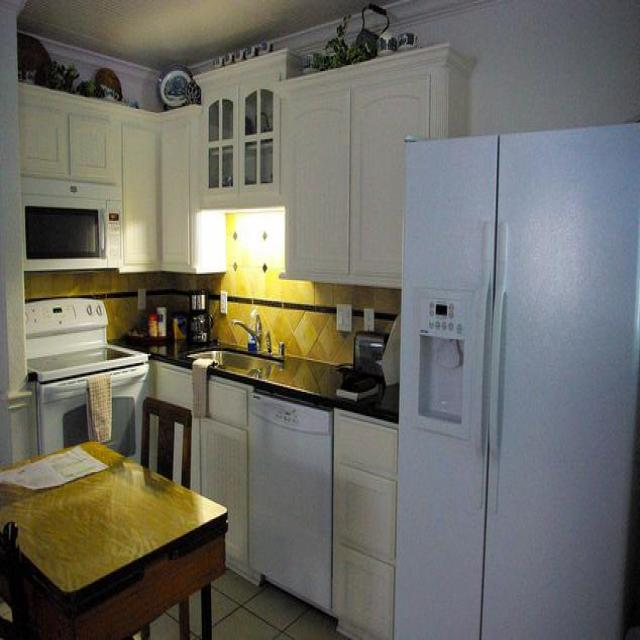dishwasher: (247, 382, 333, 614)
